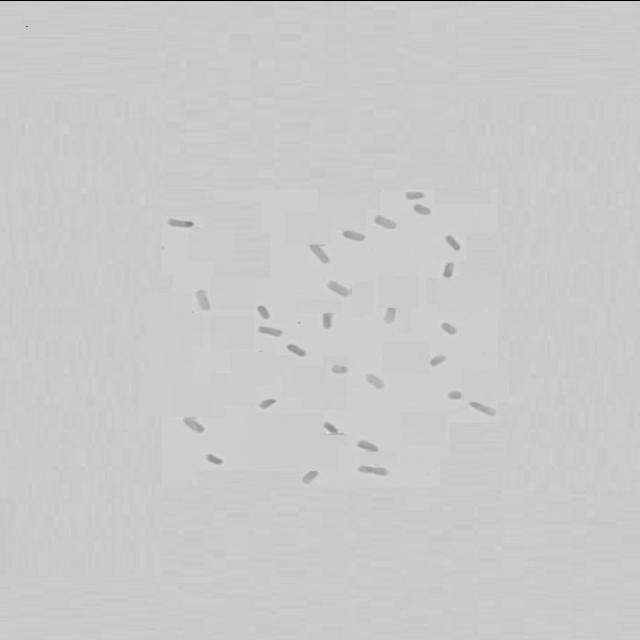E-coli: (175, 415, 207, 434), (307, 243, 335, 264), (323, 277, 350, 297), (192, 288, 212, 312), (466, 400, 500, 414), (253, 324, 285, 338), (442, 231, 464, 251), (373, 212, 397, 230), (254, 302, 276, 321), (161, 216, 195, 228), (362, 372, 387, 388), (203, 449, 225, 467), (423, 352, 449, 366), (382, 301, 397, 324), (286, 344, 309, 359), (437, 320, 461, 334), (338, 229, 365, 241), (299, 467, 319, 483), (440, 260, 460, 276), (355, 440, 381, 452), (320, 422, 342, 436), (319, 313, 337, 329), (408, 202, 432, 214), (442, 388, 465, 400), (401, 189, 428, 199), (258, 395, 276, 409), (330, 362, 348, 376), (371, 465, 389, 477), (353, 465, 371, 475)
